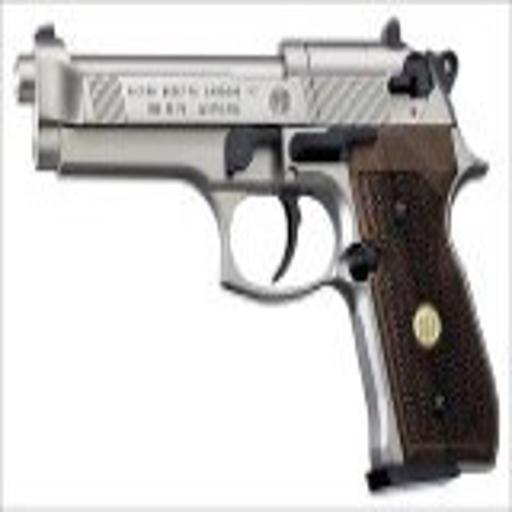Handgun: (11, 20, 501, 489)
